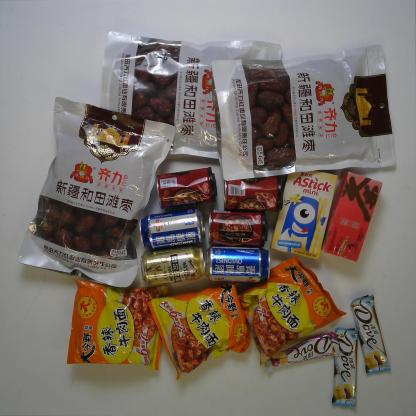Alcohol: (140, 246, 208, 287), (139, 208, 205, 249), (205, 245, 270, 284)
Canned Food: (156, 166, 219, 209), (223, 172, 284, 212), (207, 210, 268, 248)
Chocolate: (263, 332, 343, 374), (350, 294, 391, 375), (331, 327, 359, 408)
Dessert: (270, 167, 338, 260)
Dried Food: (17, 97, 176, 289), (211, 43, 396, 181), (100, 30, 283, 160)
Instant Drink: (320, 171, 384, 262)
Instant Noodles: (236, 255, 347, 366), (147, 280, 252, 381), (67, 278, 162, 371)
